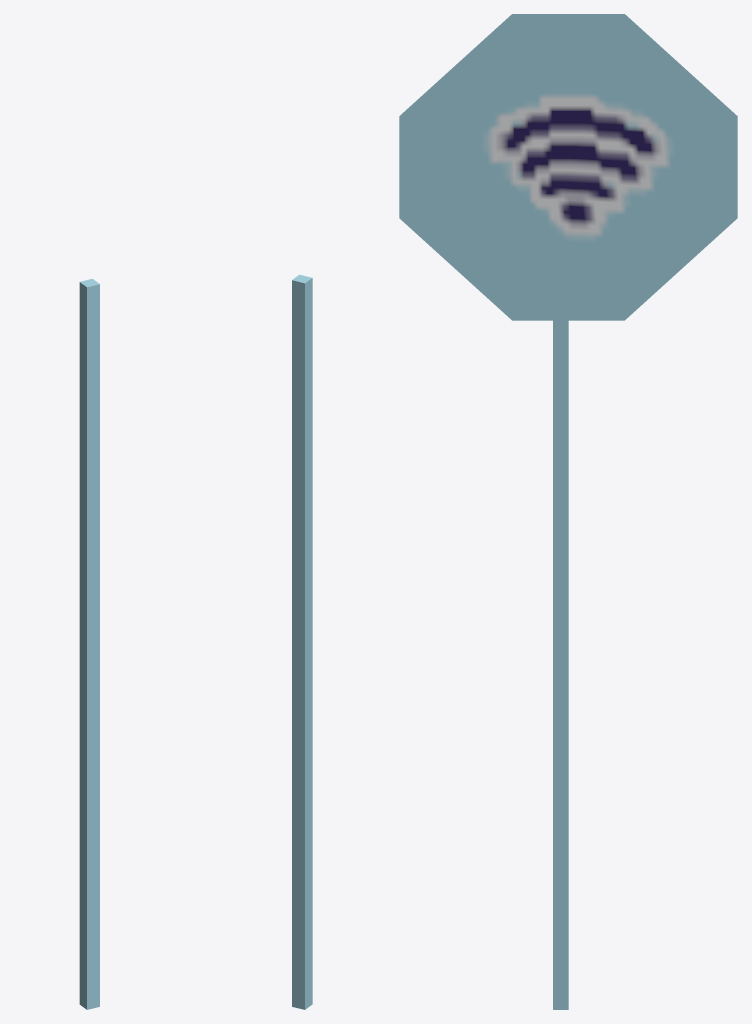
File: wifi-spot.gltf
3 views of the same model, side by side, from view 1: azimuth 30°, elevation 25°; view 2: azimuth 150°, elevation 25°; view 3: azimuth 270°, elevation 25° (orthographic). The views are drawn at different scales.
Size of the model in its own units: 0.315 by 17.72 by 5.45.
1 material, 1 textured.
